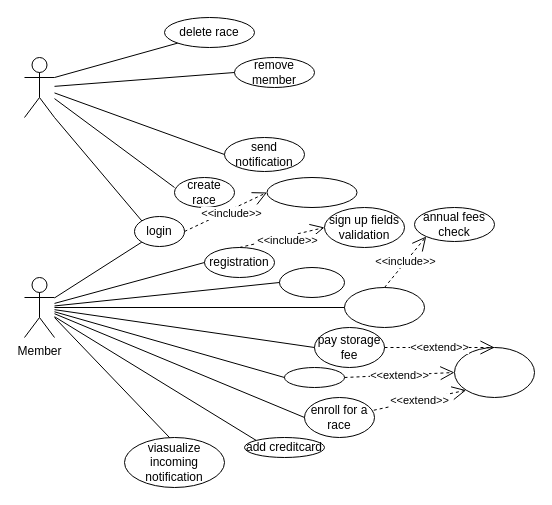
Image size: 552x505. Some labels were removed from this diagram. The shapes that lost their labels are listed below. From the top down, each one's centre as x and y in pixels, then its label:
At pixel 39 87: "Staff".
At pixel 311 192: "credentials validation".
At pixel 311 282: "add boat".
At pixel 384 307: "pay annual fee".
At pixel 314 377: "pay race".
At pixel 494 372: "payment".
